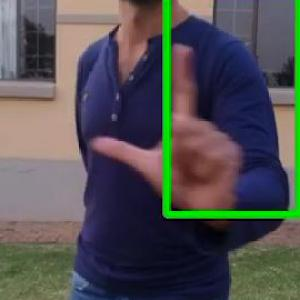land_hand: (84, 36, 244, 215)
